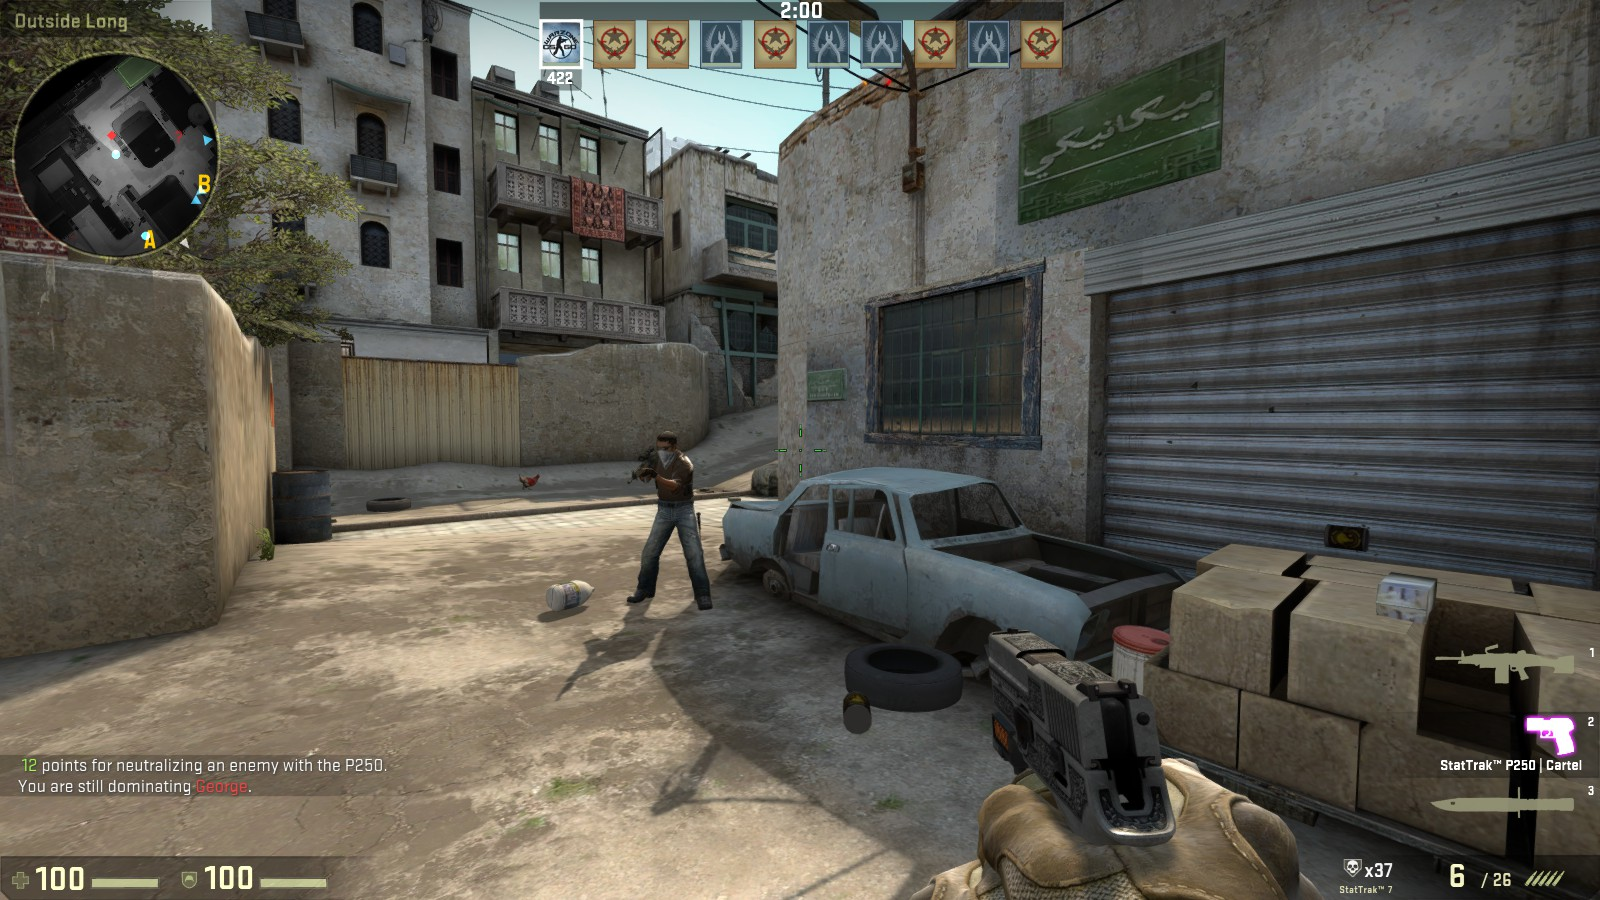t: (637, 427, 710, 605)
th: (656, 427, 680, 462)
